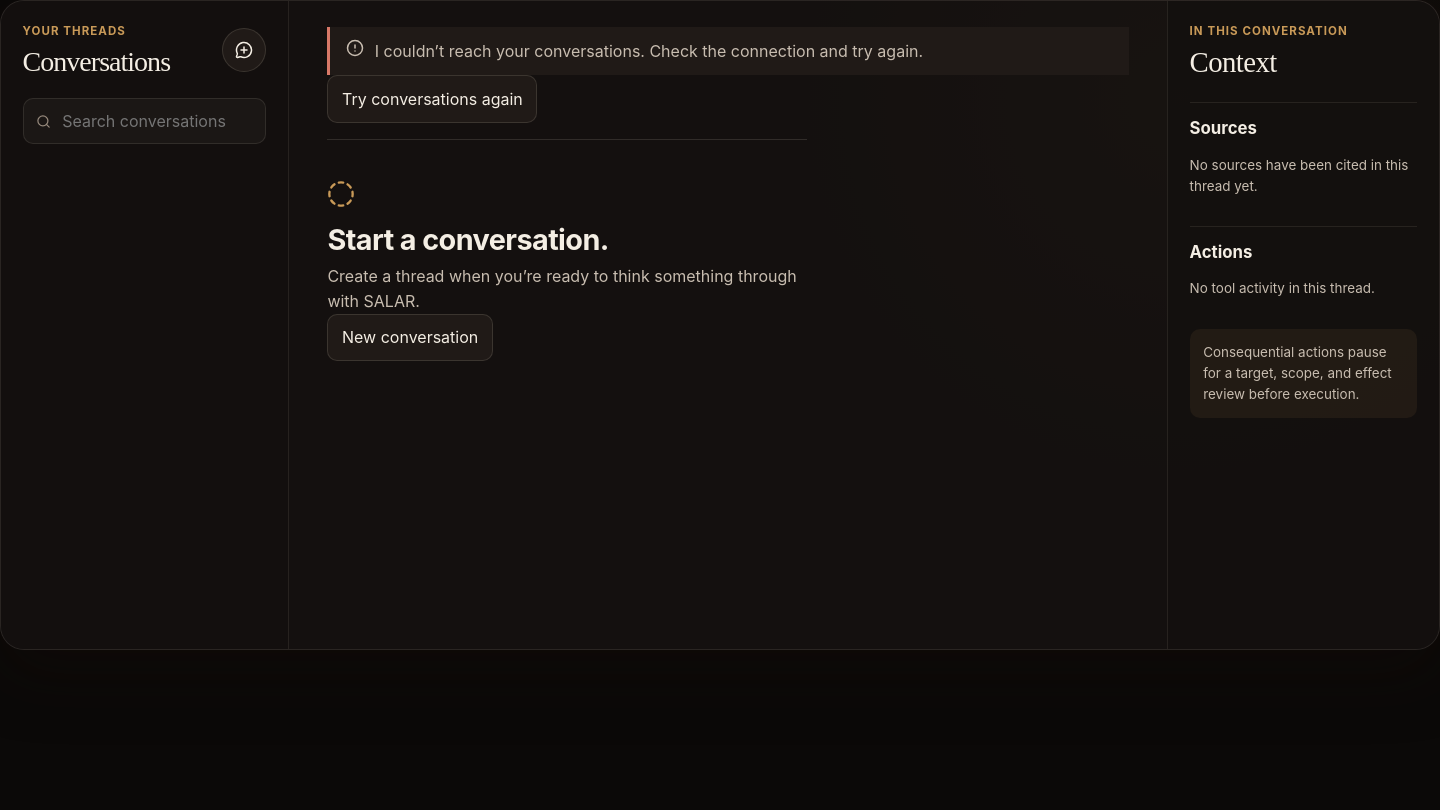
ConversationWorkspace › recovers after the conversation list is offline
Check: the message shows "couldn’t reach your conversations", box x1=375 y1=41 x2=923 y2=61
Click the button "Try conversations again" at point(432, 99), box x1=327 y1=75 x2=537 y2=123
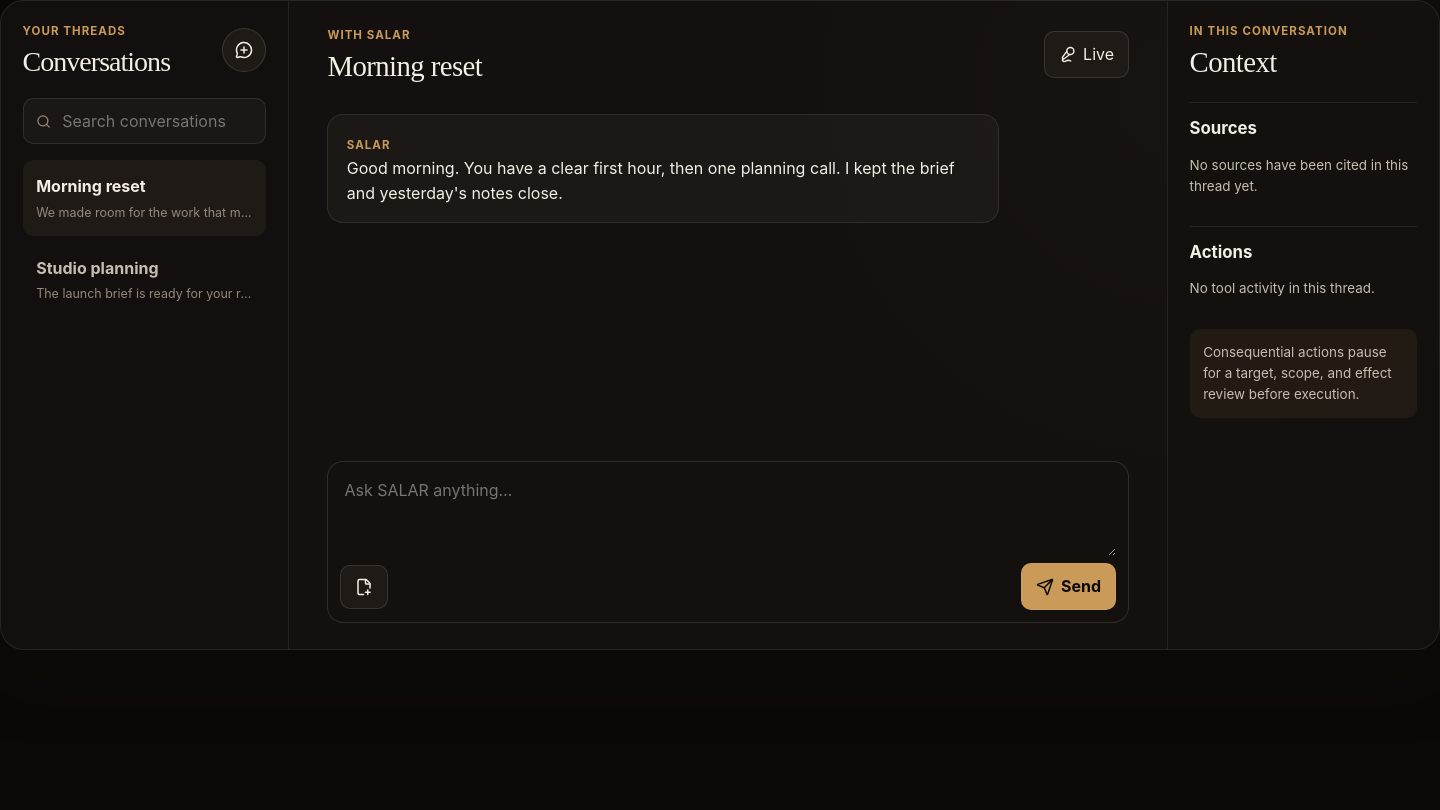
Check: the heading "Morning reset" is shown, box x1=327 y1=50 x2=482 y2=82
